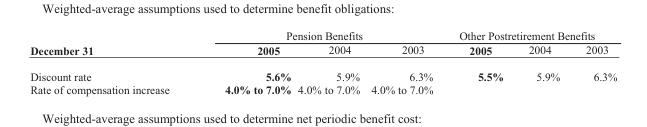table: (29, 29, 616, 95)
table column: (29, 29, 196, 95), (196, 29, 293, 95), (364, 29, 445, 95), (293, 29, 364, 95), (445, 29, 515, 95), (515, 29, 572, 95), (572, 29, 616, 95)
table column header: (29, 29, 616, 63)
table row: (29, 42, 616, 63), (29, 63, 616, 82), (29, 29, 616, 42), (29, 82, 616, 95)
table spanning cell: (29, 29, 196, 63), (196, 29, 445, 42), (445, 29, 616, 42)
